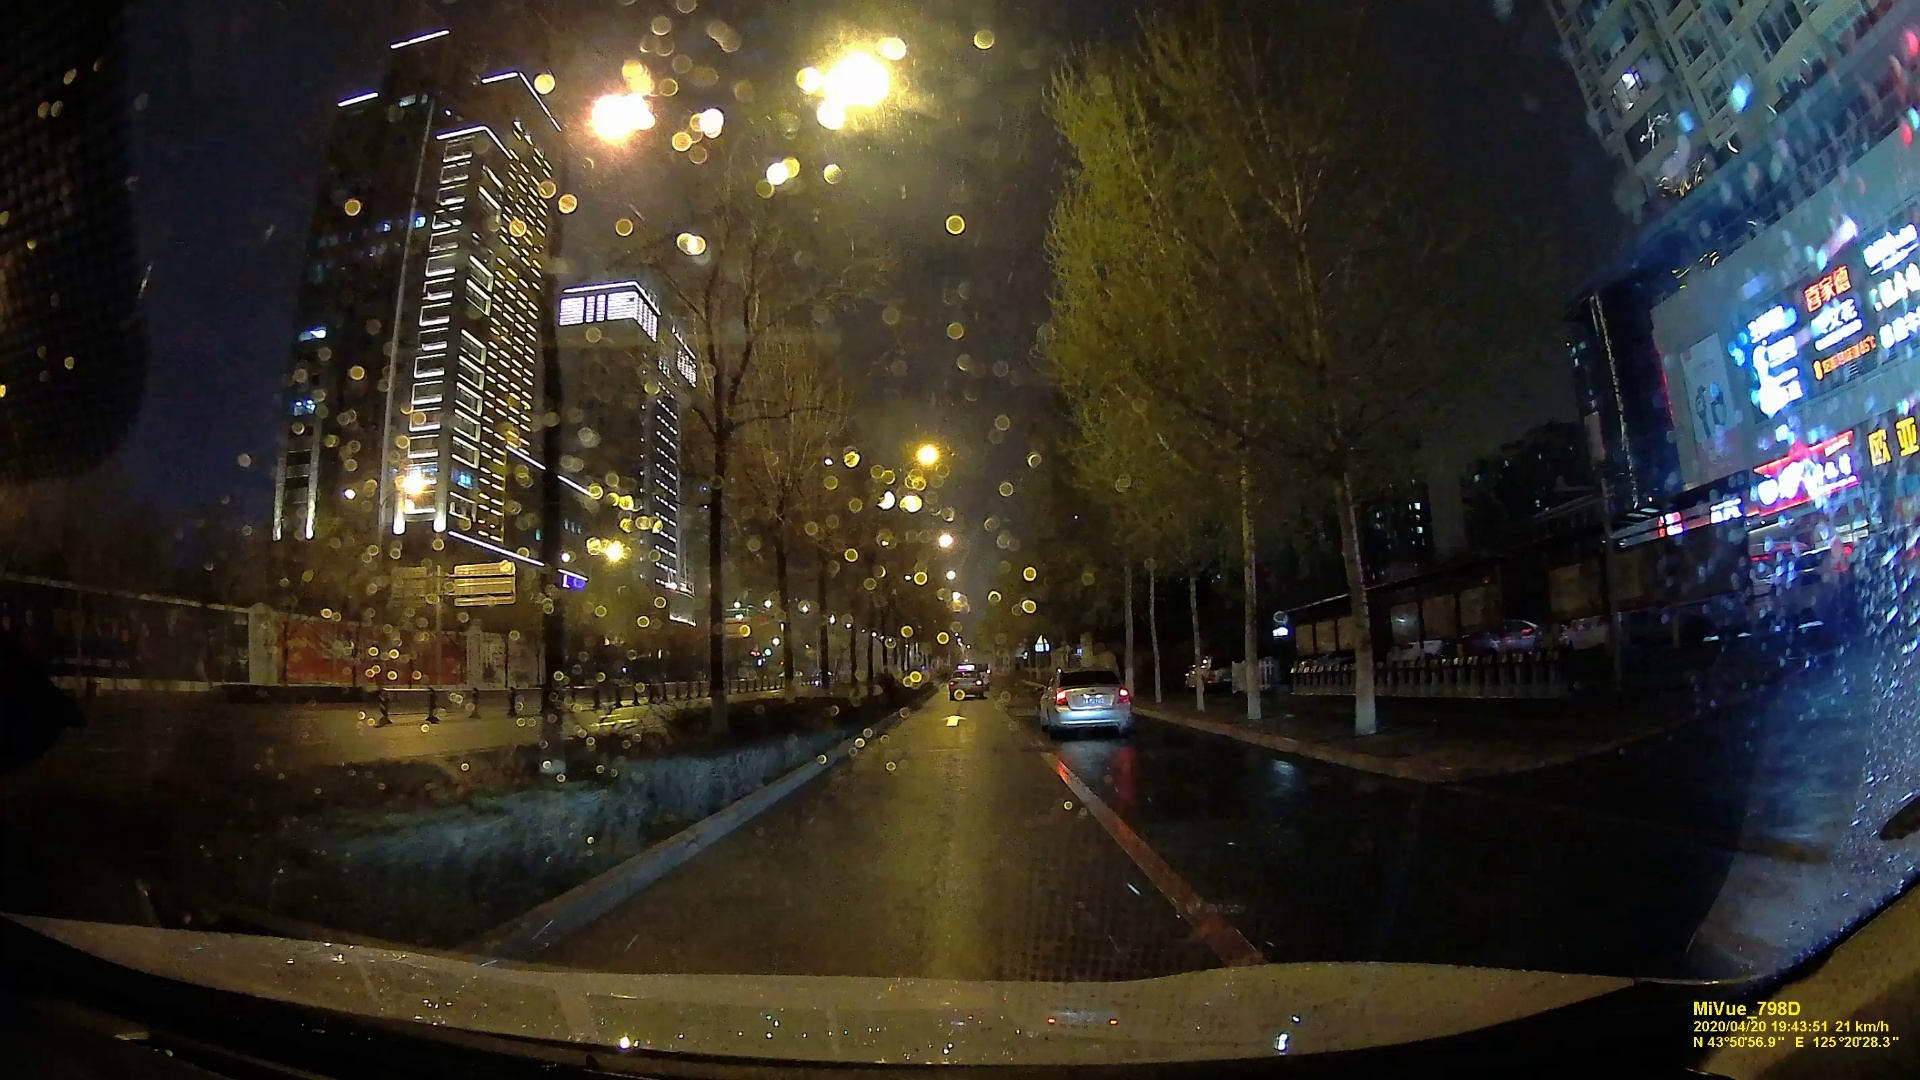vehicle: (1040, 667, 1135, 738), (949, 665, 990, 698)
